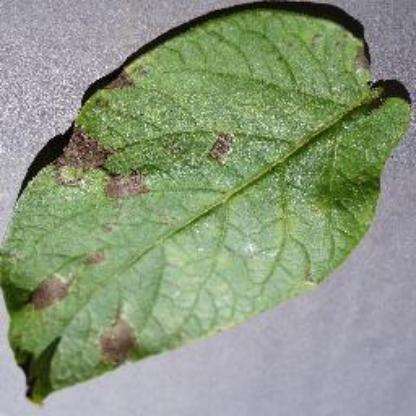Early-Blight: (1, 7, 413, 405)
